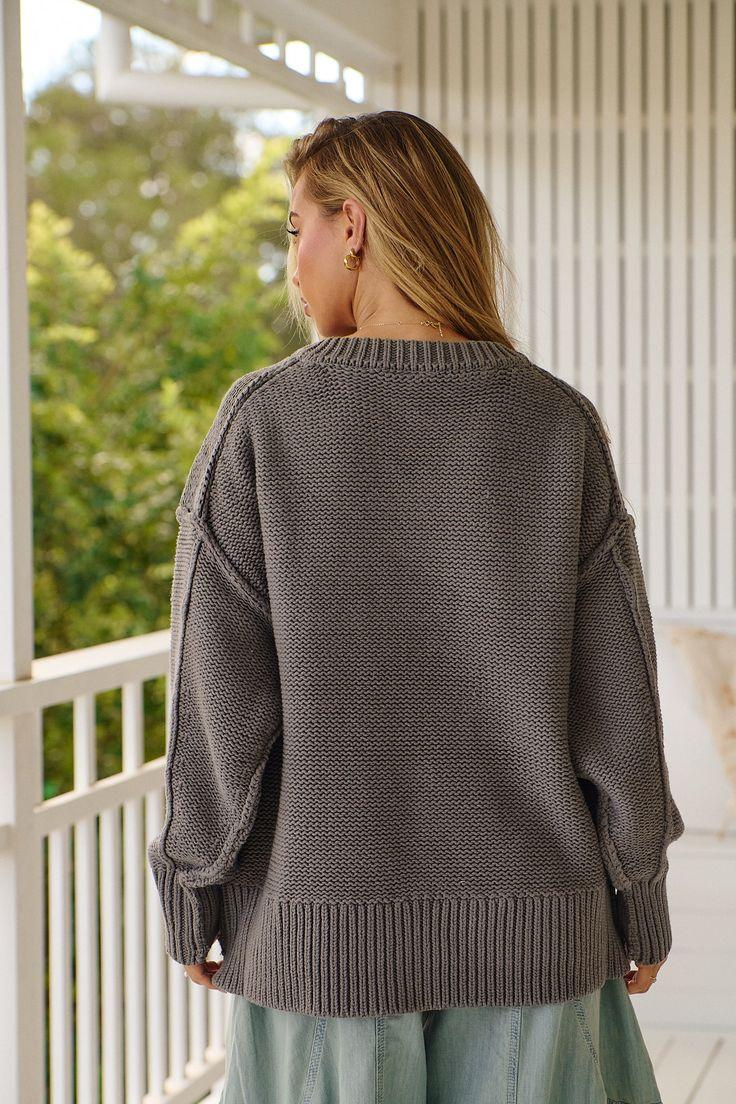sweater: (137, 329, 687, 1017)
trousers: (220, 966, 666, 1104)
